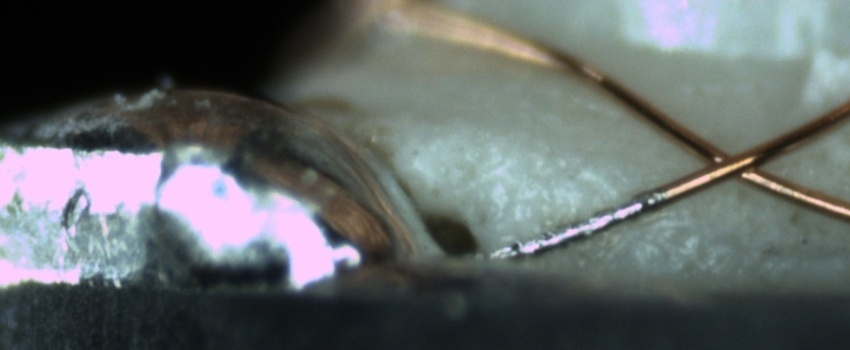CL: (681, 130, 790, 194)
TS: (451, 194, 666, 266)
